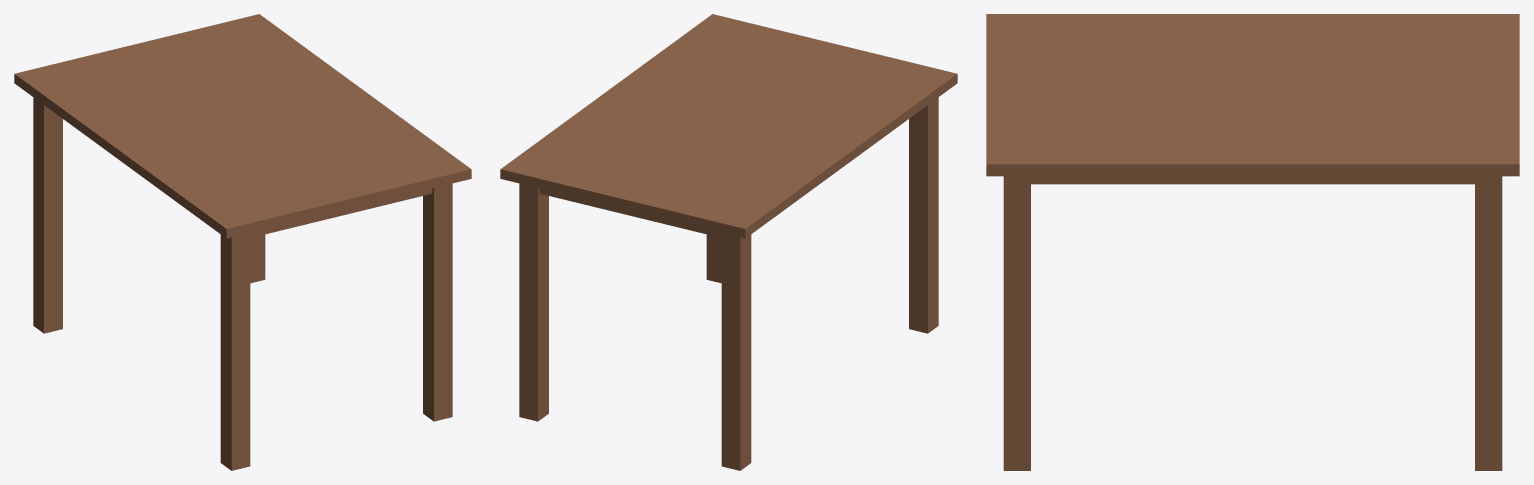
Rendered from Table_02_C3.fbx.
3 renders of one model, left to right at view 1: azimuth 30°, elevation 25°; view 2: azimuth 150°, elevation 25°; view 3: azimuth 270°, elevation 25°, orthographic. The views are drawn at different scales.
Parts seen in each view (by area): view 1: Table_02_C3; view 2: Table_02_C3; view 3: Table_02_C3.
Part boxes in pixels (x1=…): Table_02_C3: x1=14, y1=14, x2=471, y2=470; Table_02_C3: x1=500, y1=14, x2=957, y2=470; Table_02_C3: x1=986, y1=14, x2=1519, y2=470.
Bounding box in the file's own units: 80 × 78 × 120.
